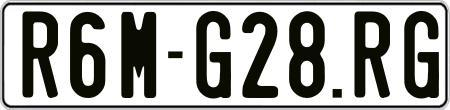2: (240, 11, 280, 98)
6: (68, 9, 106, 95)
8: (287, 11, 324, 99)
G: (194, 11, 233, 99), (404, 8, 438, 97)
M: (120, 10, 159, 101)
R: (20, 9, 62, 97), (353, 10, 391, 101)
